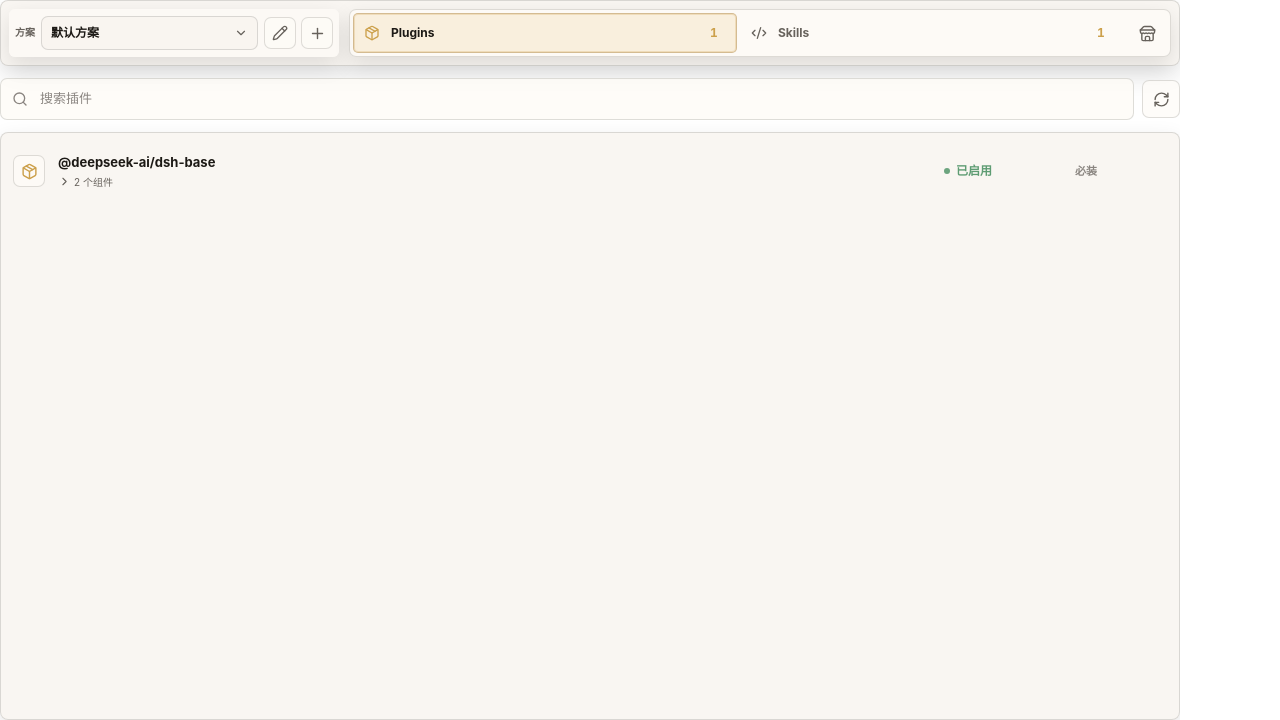
Test case: DSH resource schemes page › keeps the disclosure and tri-state controls for a multi-component bundle
Expected: the text "@deepseek-ai/dsh-base" is shown, 58,154 -> 215,171
Click the button with aria-label "查看 2 个组件": (85, 182) 58,175 -> 113,188
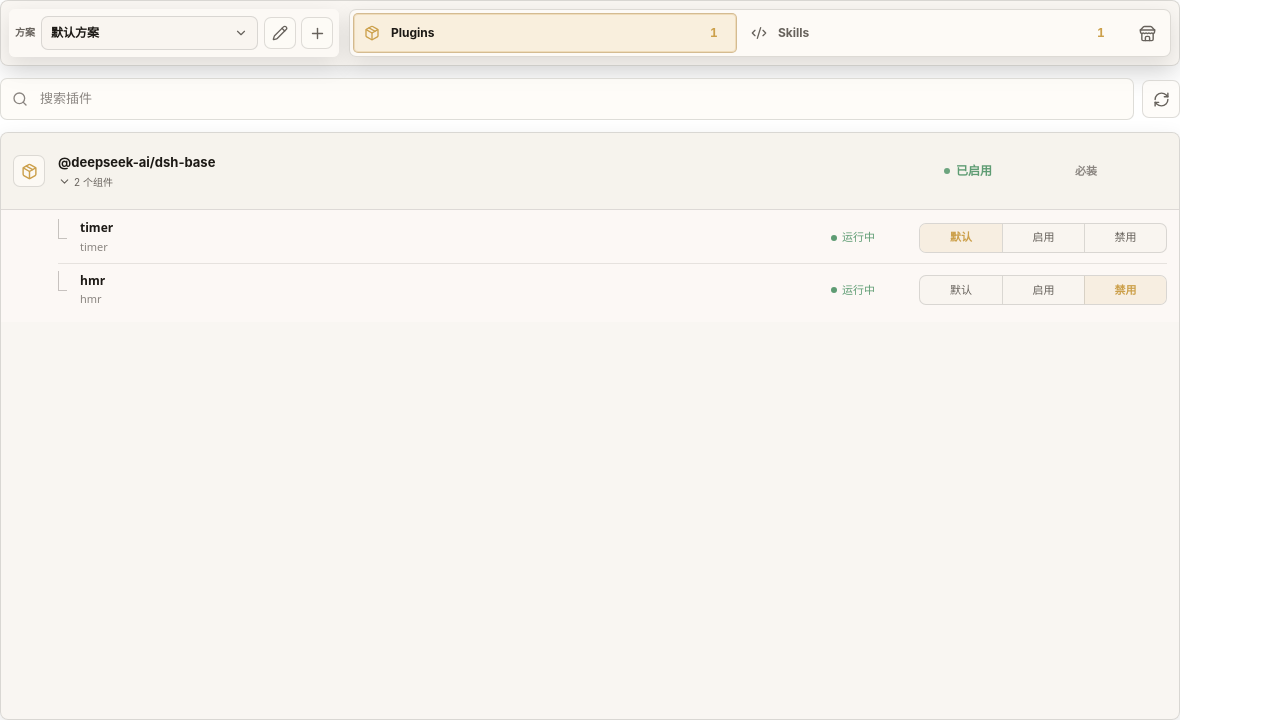
Now the element named "timer 控制方式" is shown, box 919,222 -> 1167,252
